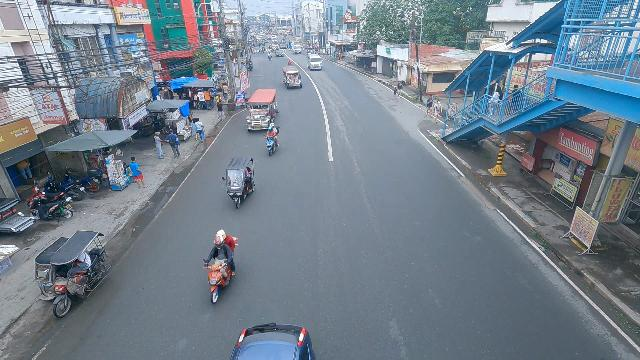car: (275, 49, 284, 57), (263, 45, 272, 53), (279, 42, 287, 49)
jeepney: (245, 88, 278, 133), (281, 66, 303, 89)
motorcycle: (203, 232, 240, 306), (265, 124, 279, 158), (247, 60, 253, 71), (268, 52, 272, 60)
truck: (292, 44, 302, 54)
van: (307, 55, 323, 71)
